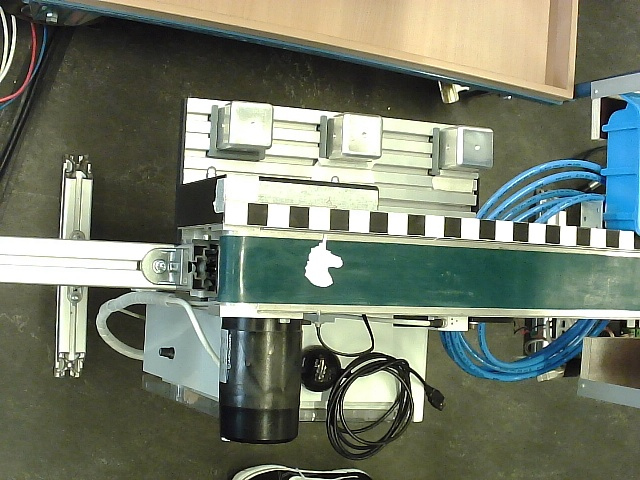unicorn: (305, 232, 343, 288)
